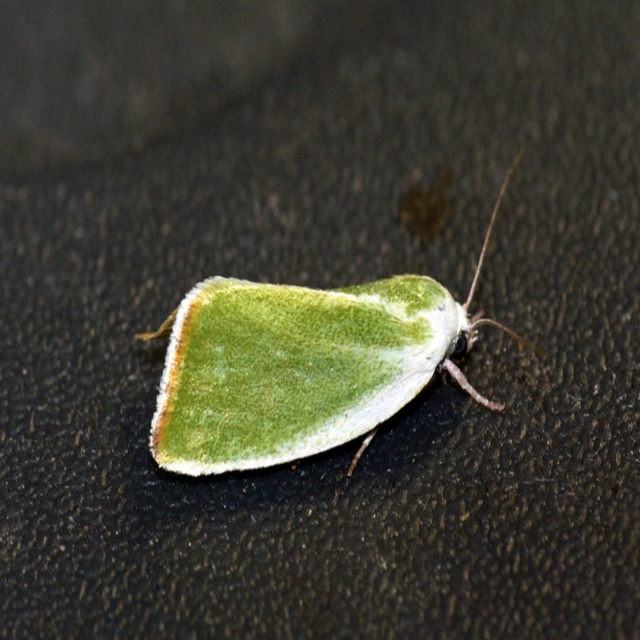Moths and butterflies: (131, 135, 550, 493)
